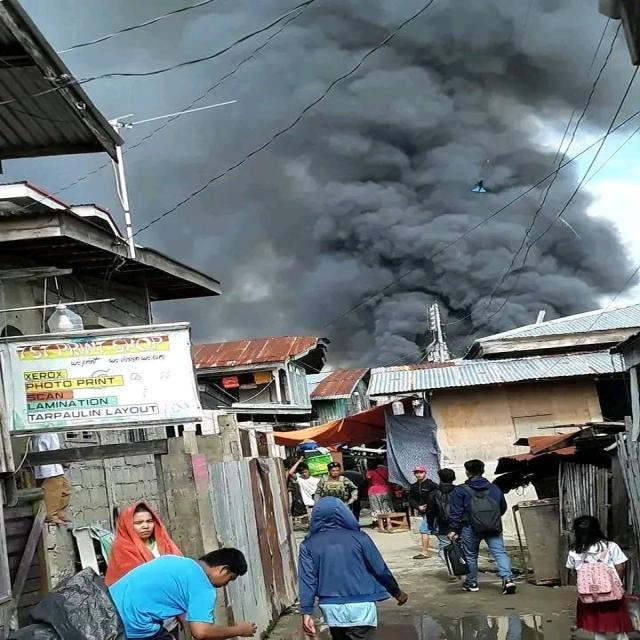Smoke: (320, 1, 640, 303), (138, 0, 332, 241), (204, 241, 432, 348)
